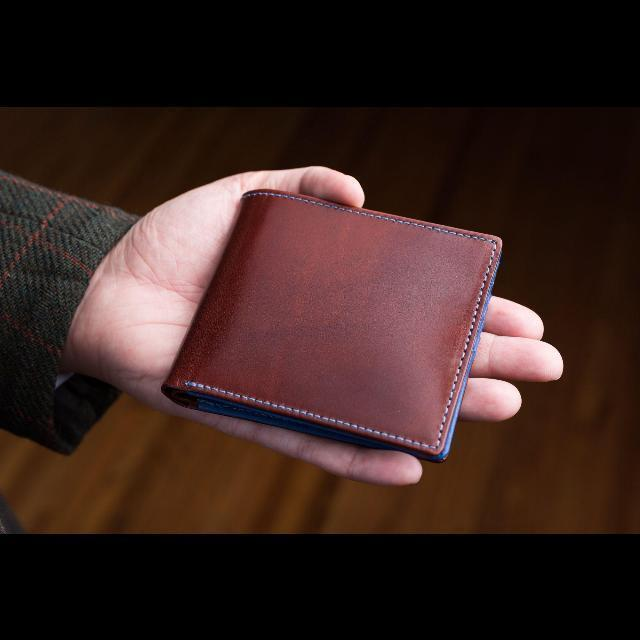wallet: (159, 184, 503, 458)
